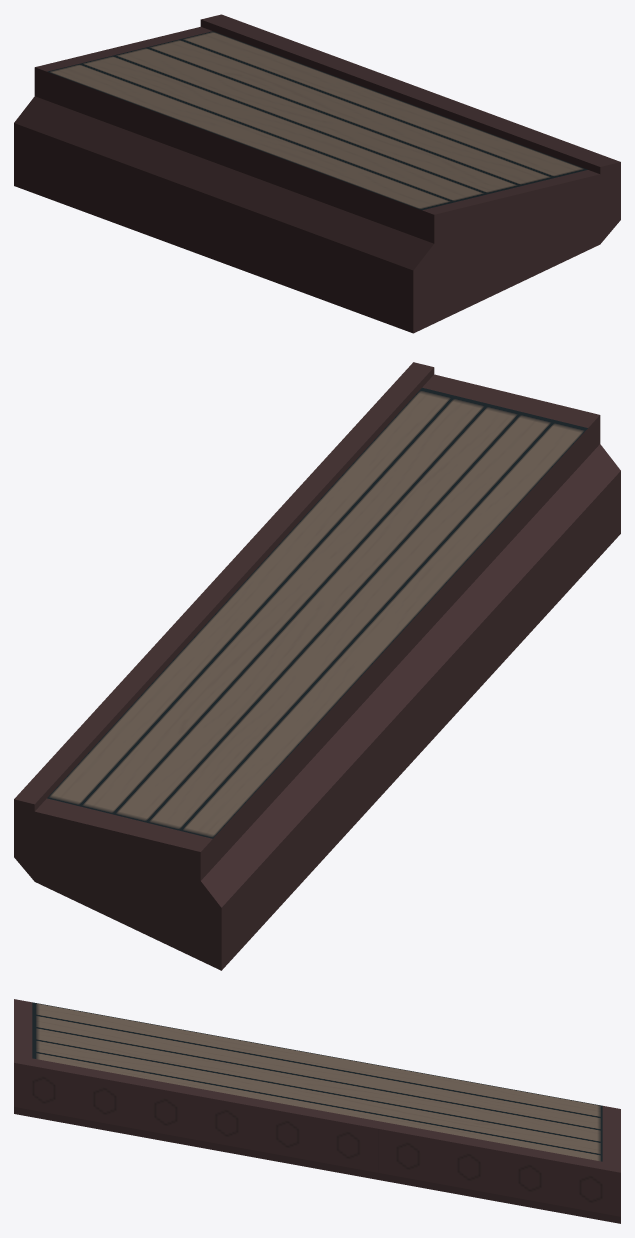
Rendered from SW_ENV_EL_TrackBase_Walkway_Rise_Side_5m.fbx.
3 views of the same model, one above another, from view 1: azimuth 30°, elevation 25°; view 2: azimuth 150°, elevation 25°; view 3: azimuth 270°, elevation 25° (orthographic). The views are drawn at different scales.
Parts seen in each view (by area): view 1: SW_ENV_EL_TrackBase_Walkway_Rise_Side_5m; view 2: SW_ENV_EL_TrackBase_Walkway_Rise_Side_5m; view 3: SW_ENV_EL_TrackBase_Walkway_Rise_Side_5m.
Part boxes in pixels (box(x1,y1,x2,y2)): SW_ENV_EL_TrackBase_Walkway_Rise_Side_5m: box(14, 14, 620, 333); SW_ENV_EL_TrackBase_Walkway_Rise_Side_5m: box(14, 362, 620, 970); SW_ENV_EL_TrackBase_Walkway_Rise_Side_5m: box(14, 999, 620, 1223).
Size of the model in its own units: 150 by 183 by 500.
